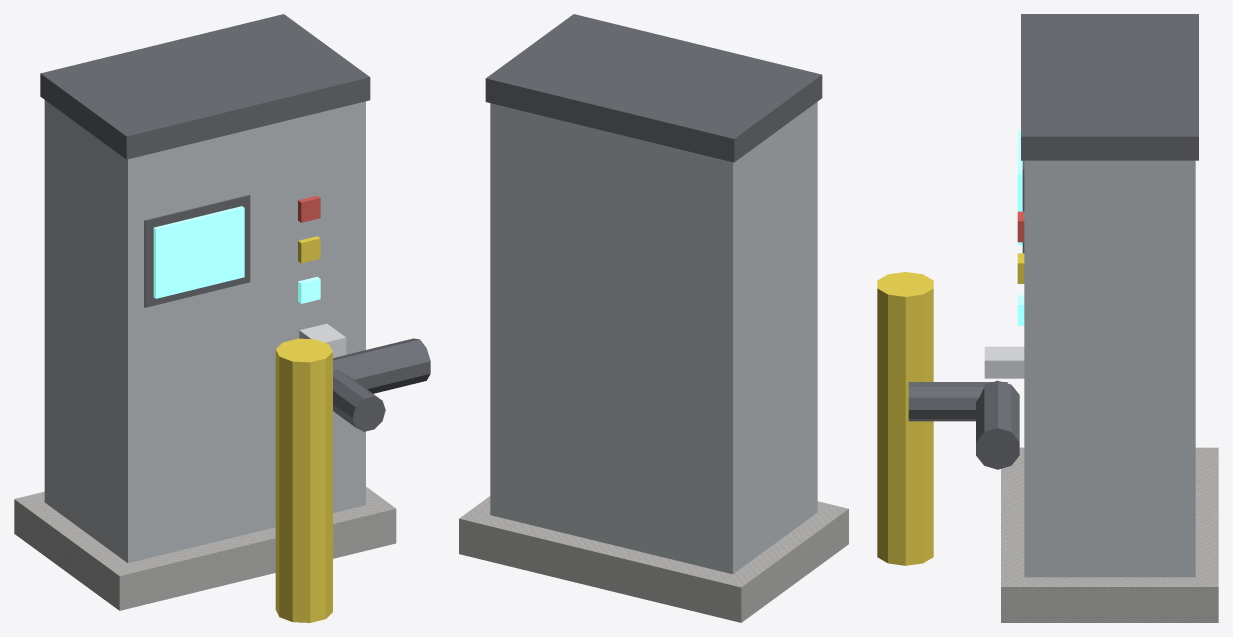
Rendered from forklift-charging-point.glb.
3 views of the same model, side by side, from view 1: azimuth 30°, elevation 25°; view 2: azimuth 150°, elevation 25°; view 3: azimuth 270°, elevation 25° (orthographic). The views are drawn at different scales.
Visible parts, largest first — view 1: parcel-depot-and-sorting-hall-forklift-charging-point; view 2: parcel-depot-and-sorting-hall-forklift-charging-point; view 3: parcel-depot-and-sorting-hall-forklift-charging-point.
Part boxes in pixels (<box>): parcel-depot-and-sorting-hall-forklift-charging-point: <box>14,14,430,622</box>; parcel-depot-and-sorting-hall-forklift-charging-point: <box>459,14,848,622</box>; parcel-depot-and-sorting-hall-forklift-charging-point: <box>877,14,1218,622</box>.
Bounding box in the file's own units: 1.08 × 1.6 × 1.04.
7 materials, 1 textured.
